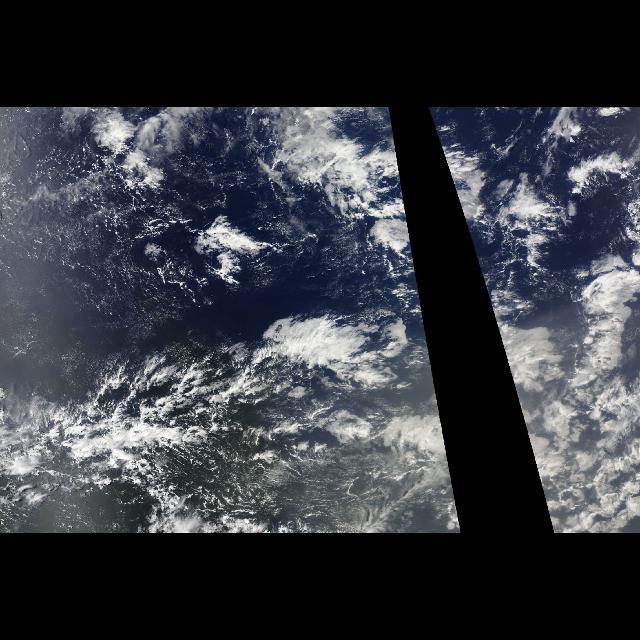Fish: (5, 336, 266, 497)
Sugar: (0, 175, 200, 325)
